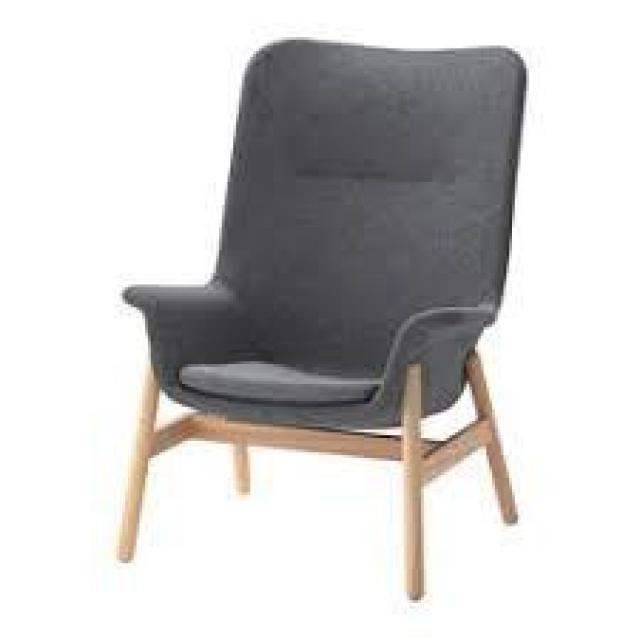chair: (104, 26, 553, 586)
